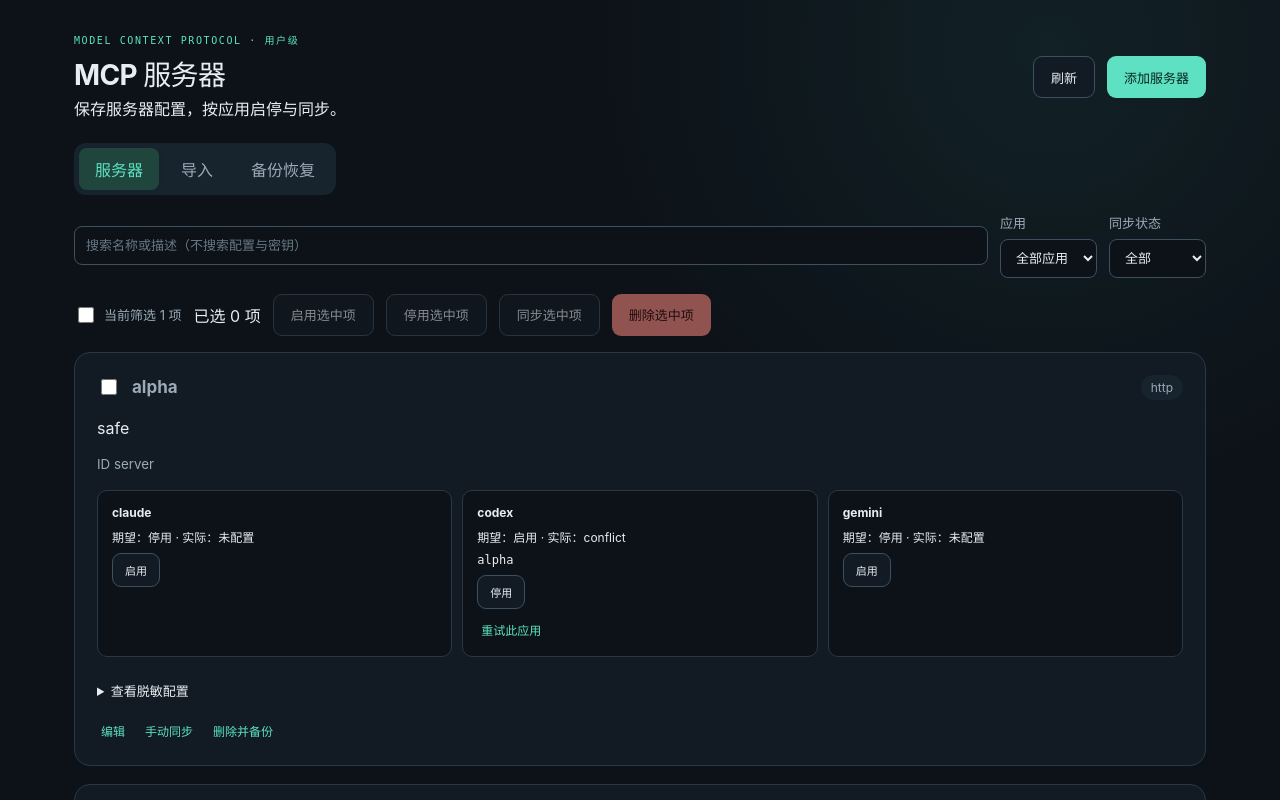
Test case: MCP management view › searches names and descriptions without indexing config
Type "Authorization" into the search field with placeholder "搜索名称或描述（不搜索配置与密钥）" at (531, 245), box [74,226,988,265]
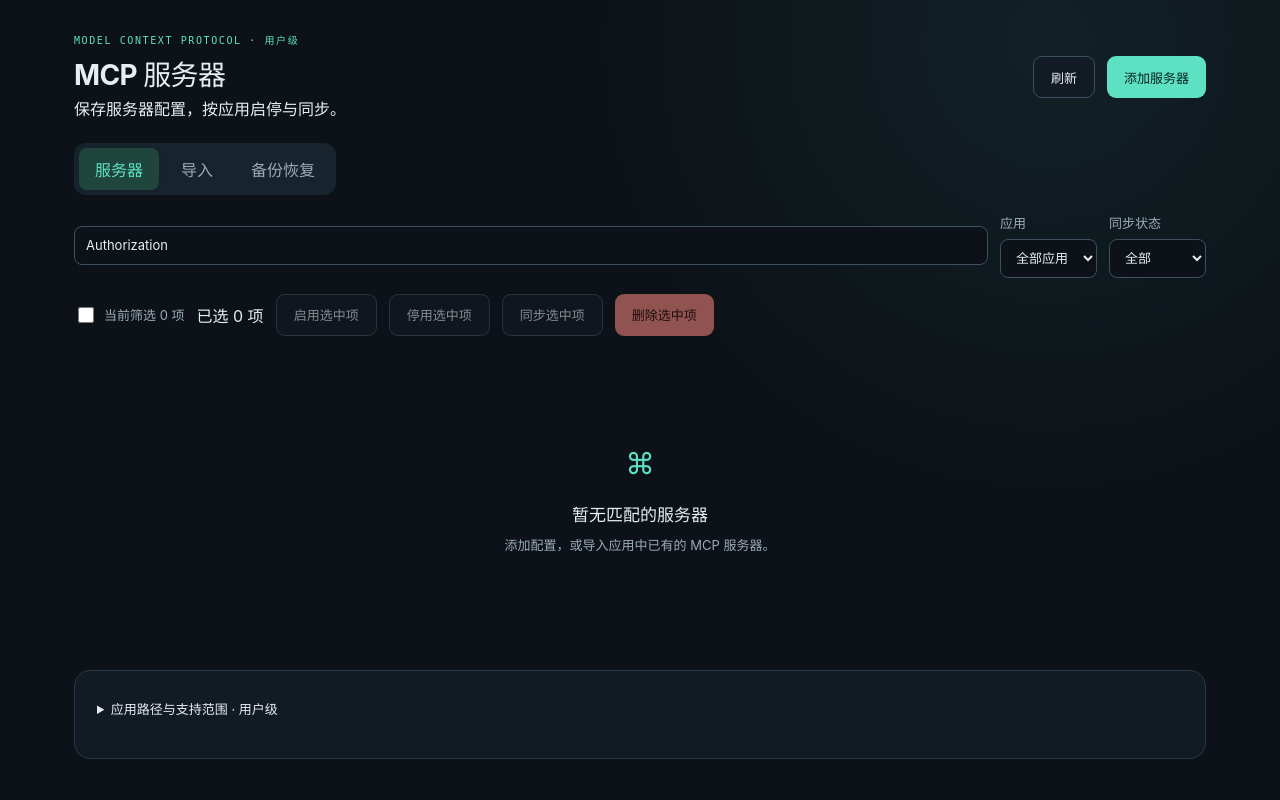
Now the text "暂无匹配的服务器" is shown, box [572,501,708,526]
